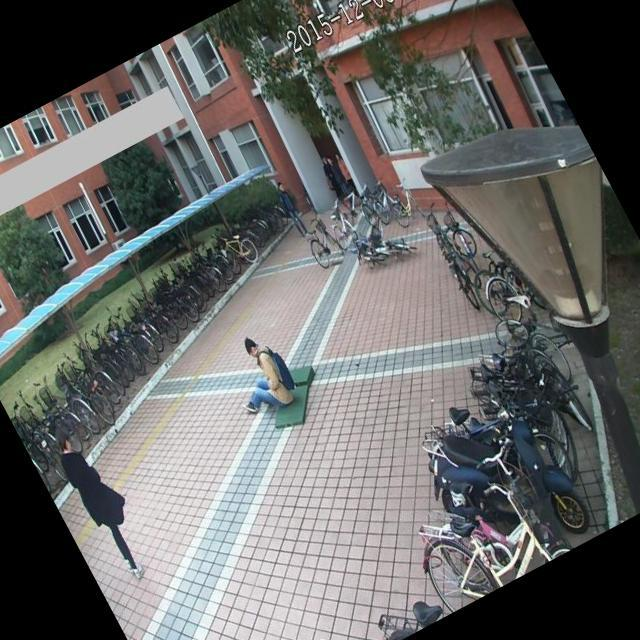person: (42, 418, 158, 590), (216, 322, 305, 427), (266, 173, 314, 243)
